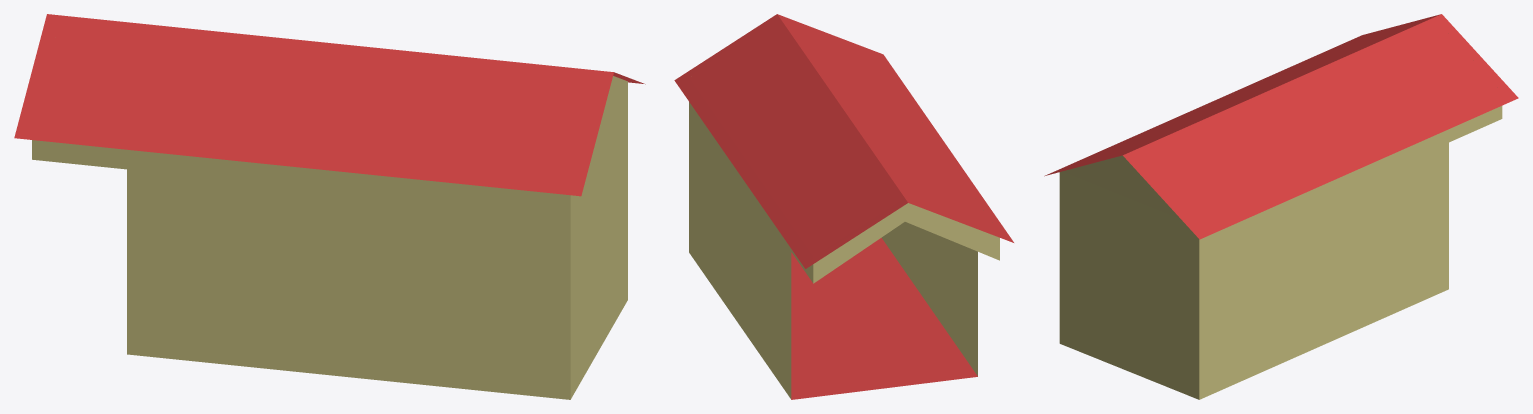
3 renders of one model, left to right at view 1: azimuth 30°, elevation 25°; view 2: azimuth 150°, elevation 25°; view 3: azimuth 270°, elevation 25°, orthographic. The views are drawn at different scales.
Bounding box in the file's own units: 20.83 × 20.48 × 10.47.
